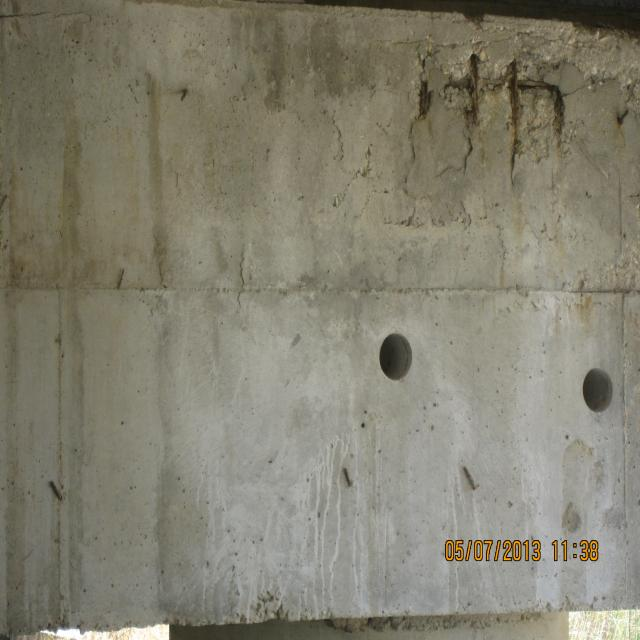corrosion: (399, 49, 582, 167), (460, 465, 480, 492), (48, 478, 66, 504), (342, 464, 354, 490), (178, 86, 192, 105)
